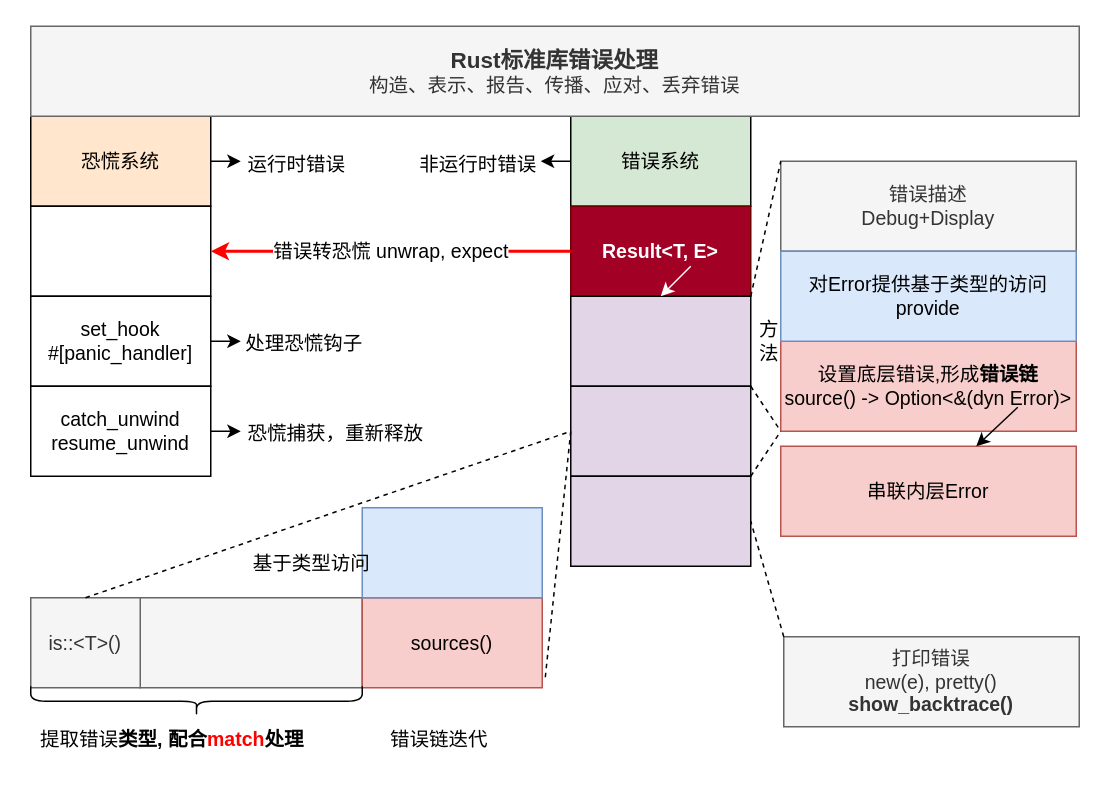
Image size: 1106x785. Some labels were removed from this diagram. The shapes that lost their labels are listed below. From the top down, each one's centre as x and y in pixels, then its label:
At [120,250]: "抛出 panic!, panic_any".
At [660,340]: "核心特征 Error".
At [660,430]: "错误对象 dyn Error + marker".
At [660,520]: "错误打印 Report<E=Box<.>>".
At [451,552]: "request_ref request_value".
At [250,642]: "downcast::<T>() downcast_ref::<T>() downcast_mut::<T>()".
